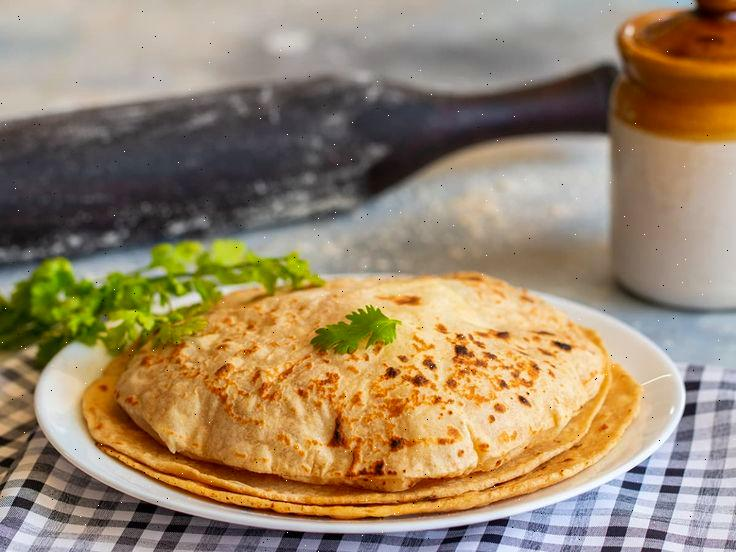roti phulka: (74, 270, 647, 523)
